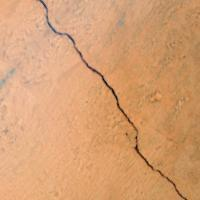crack: (37, 0, 198, 199)
